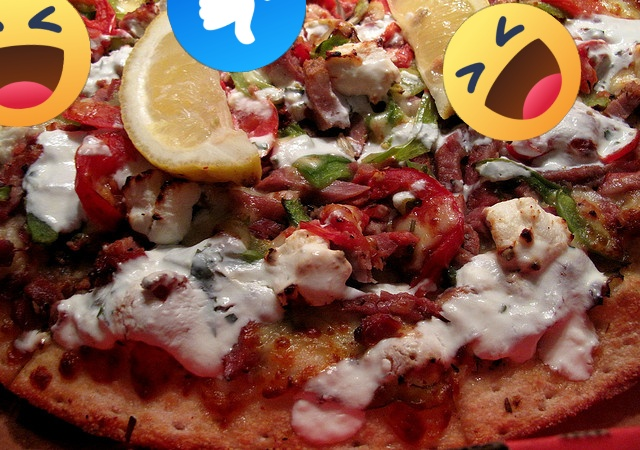haha: (443, 3, 581, 141), (0, 0, 91, 127)
like: (167, 0, 306, 72)
